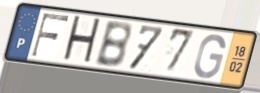7: (127, 23, 165, 72), (164, 26, 198, 77)
B: (93, 21, 133, 70)
F: (29, 12, 72, 59)
G: (192, 32, 227, 80)
H: (60, 14, 103, 68)
